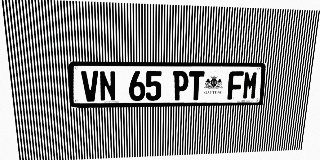5: (146, 71, 162, 101)
6: (129, 71, 145, 101)
F: (227, 71, 244, 100)
M: (242, 71, 259, 99)
N: (99, 71, 116, 101)
P: (173, 71, 189, 100)
T: (188, 71, 205, 100)
V: (81, 71, 99, 102)
